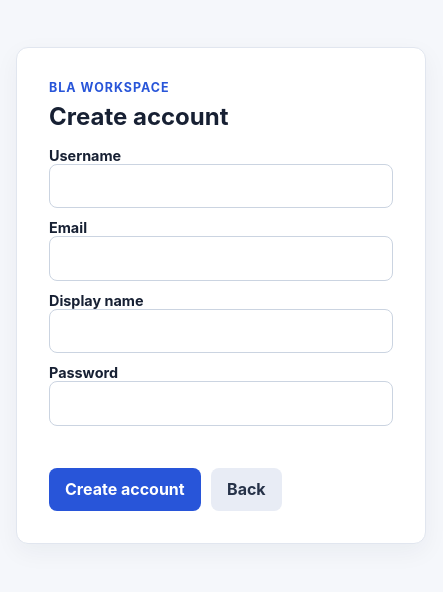
RegistrationPage › registration_ApiReturnsProblem_ShowsApiMessage
This screenshot has width=443, height=592.
Type "new.user" into the field labelled "Username" at (221, 186), box [49,164,393,208]
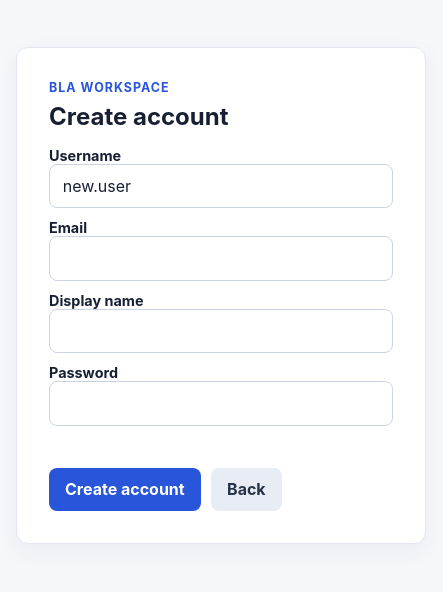
Type "new@bla.local" into the field labelled "Email" at (221, 258), box [49,236,393,281]
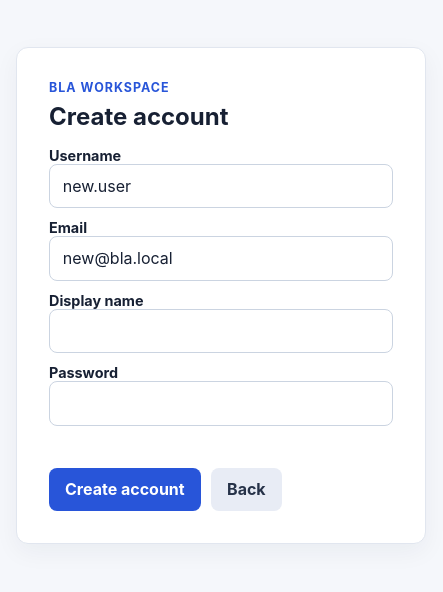
Type "New User" into the field labelled "Display name" at (221, 331), box [49,309,393,353]
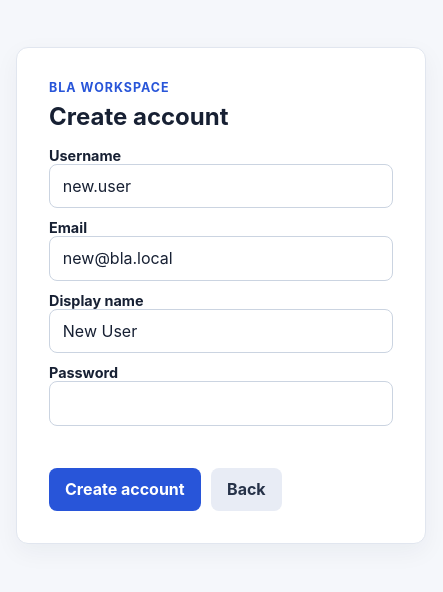
Type "password" into the password field labelled "Password" at (221, 404), box [49,381,393,426]
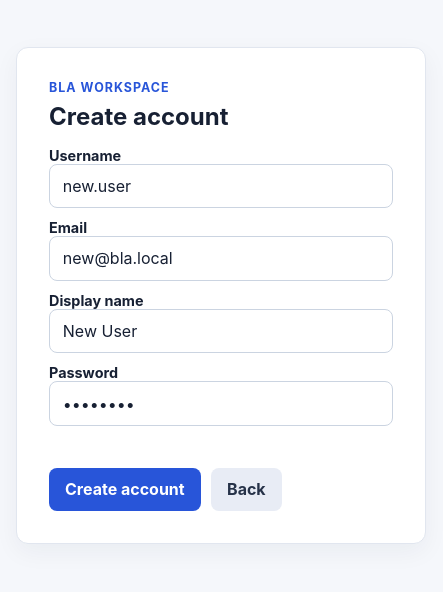
Click the button "Create account" at (125, 489), box [49,468,201,510]
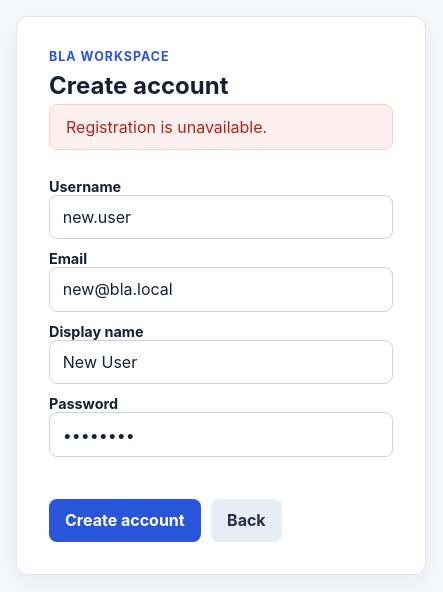
expect the message reads "Registration is unavailable.": met, box [66,118,267,138]
